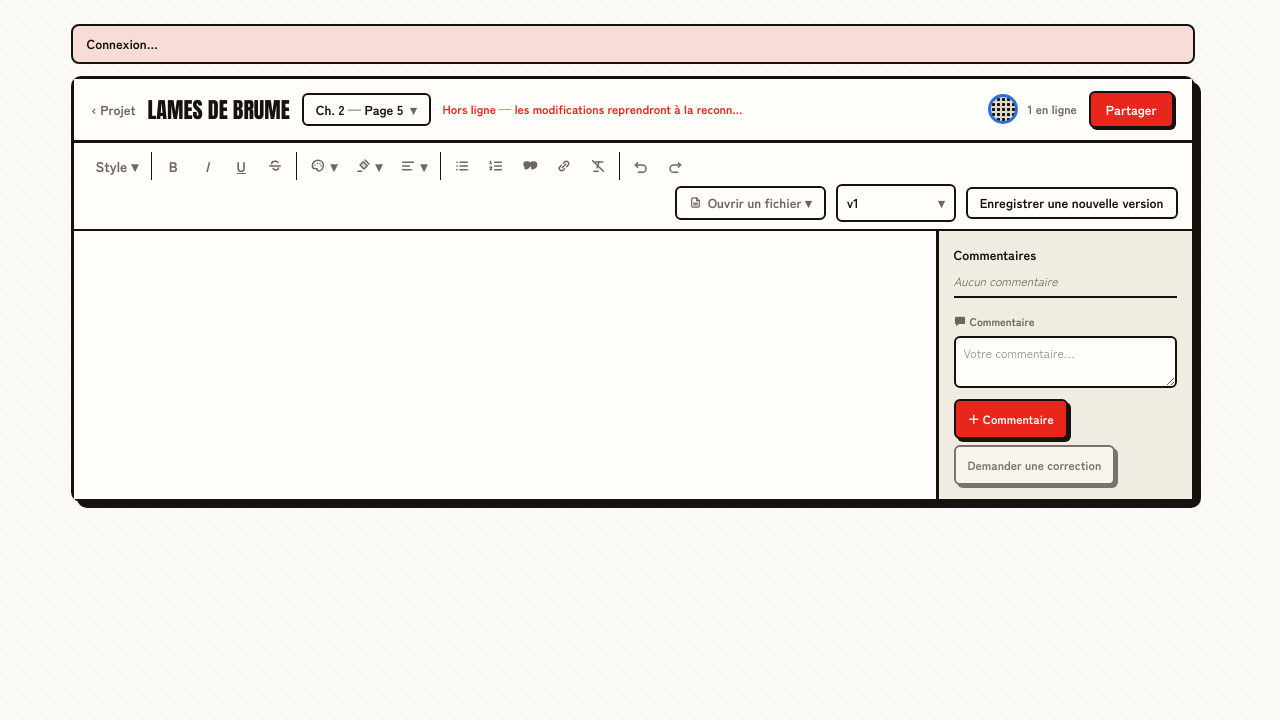
Test: EditorClient (Éditeur shell) › snapshots a new version and confirms
Expected: the text "Lames de Brume" is shown, top-left (148, 93), bottom-right (290, 126)
Expected: the text "v1" is shown, top-left (847, 193), bottom-right (858, 212)
Click the button "Enregistrer une nouvelle version" at (1072, 203), box top-left (966, 187), bottom-right (1178, 219)
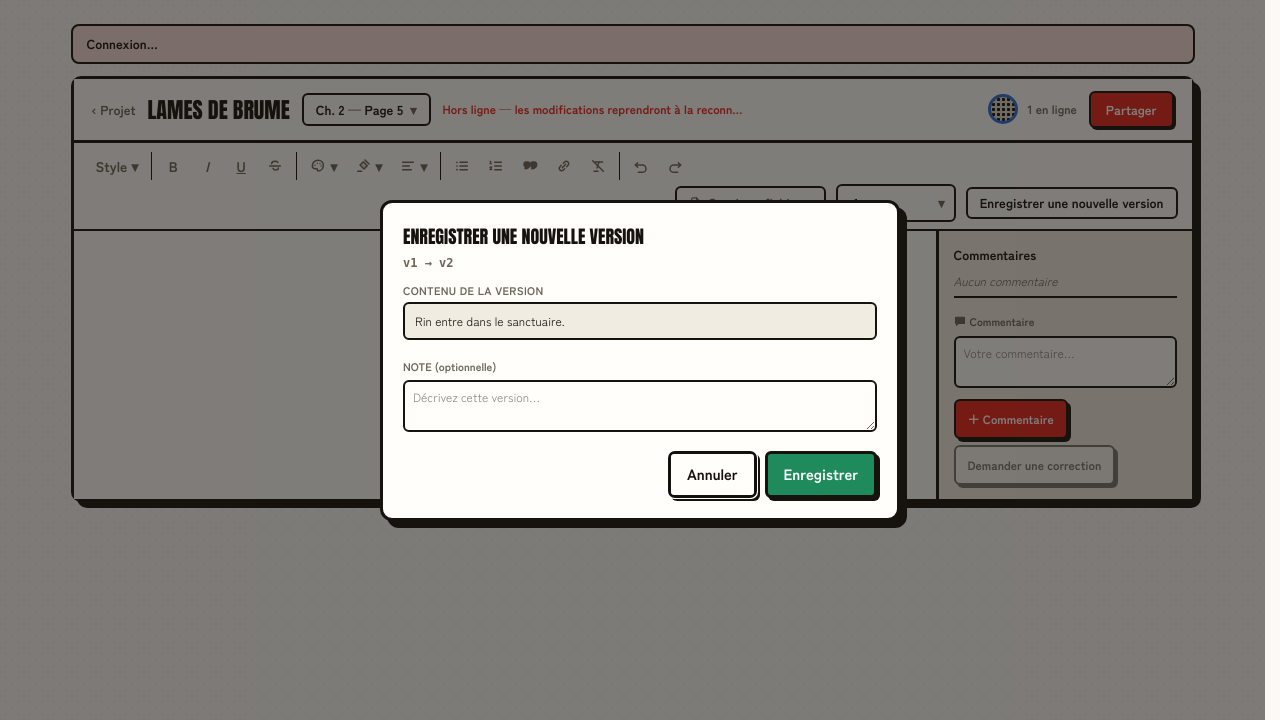
Click the button "Enregistrer" at (821, 474), box top-left (765, 451), bottom-right (877, 498)
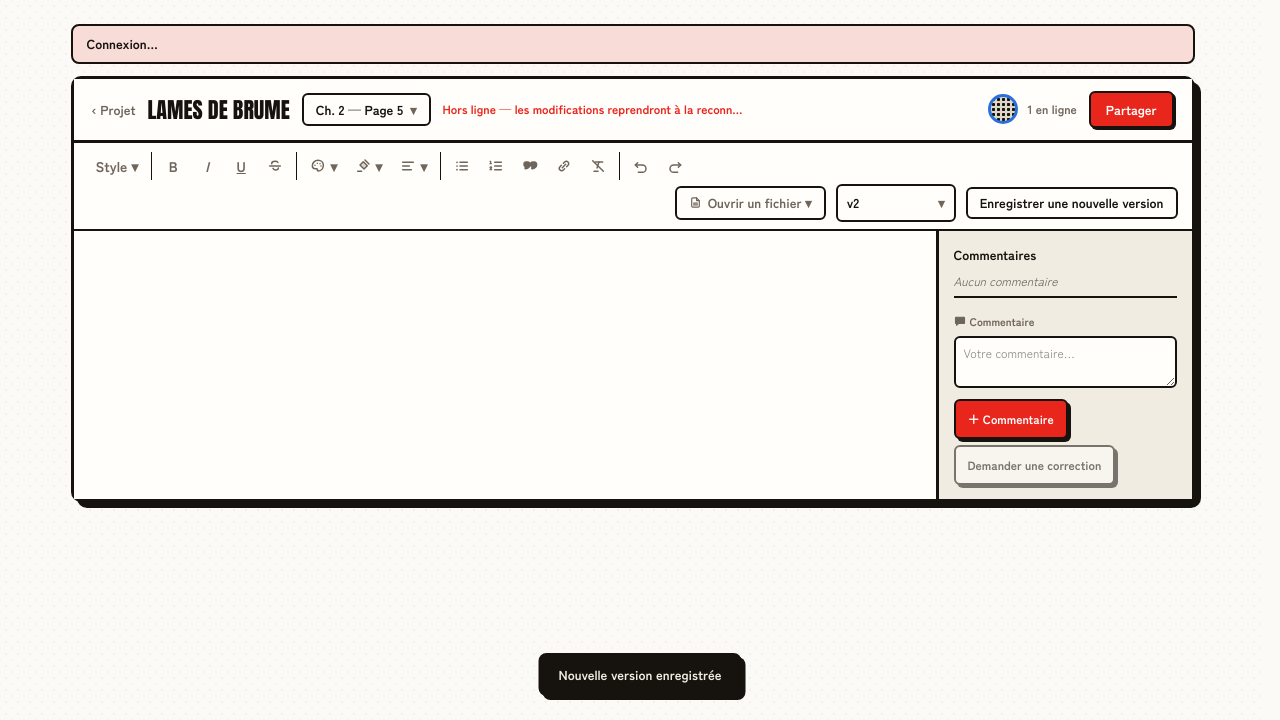
Expected: the text "v2" is shown, top-left (847, 193), bottom-right (859, 212)
Expected: the text "Nouvelle version enregistrée" is shown, top-left (538, 652), bottom-right (742, 696)
